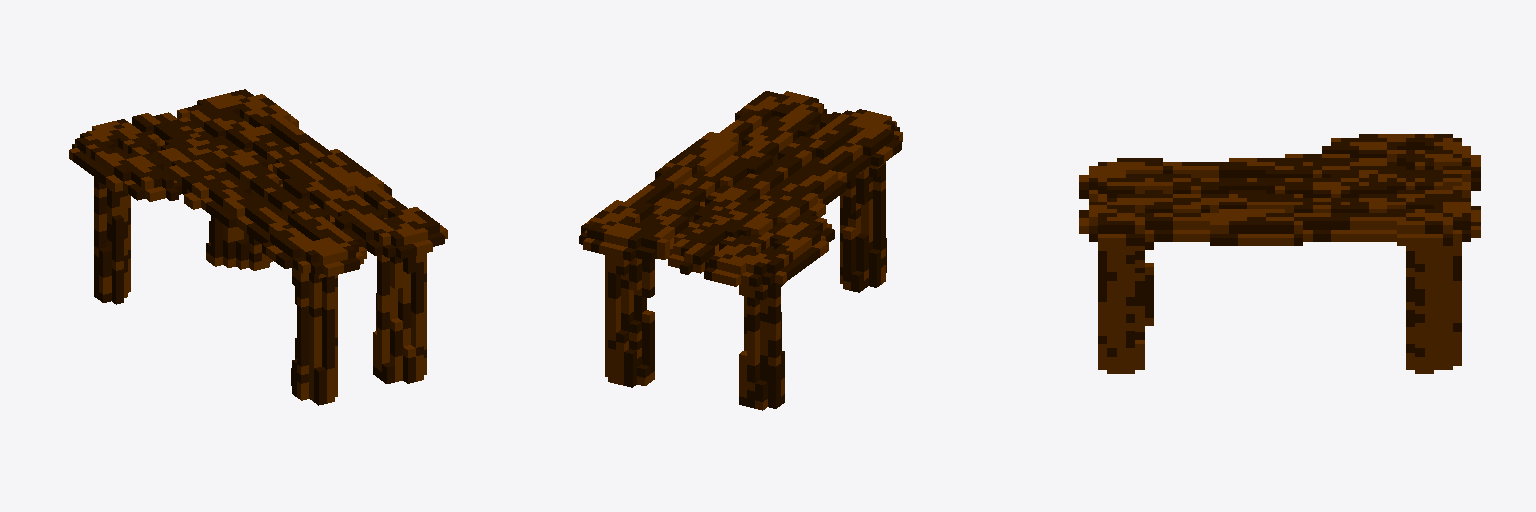
3 renders of one model, left to right at view 1: azimuth 30°, elevation 25°; view 2: azimuth 150°, elevation 25°; view 3: azimuth 270°, elevation 25°, orthographic.
Visible parts, largest first — view 1: object 1; view 2: object 1; view 3: object 1.
Part boxes in pixels (bbox=[...]): object 1: bbox=[69, 89, 447, 405]; object 1: bbox=[579, 91, 902, 410]; object 1: bbox=[1079, 134, 1480, 373].
Size of the model in its own units: 2.5 by 1.8 by 4.3.
Materials: 1 (1 with a texture image).